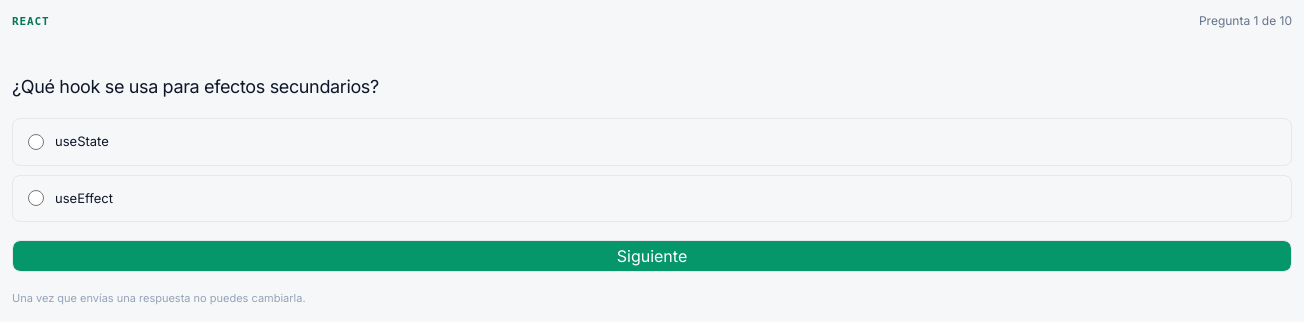
Test: SkillExamRunner › sends the selected option and advances to the next question
Click the radio button labelled "useEffect" at (36, 198), box [28,190,44,206]
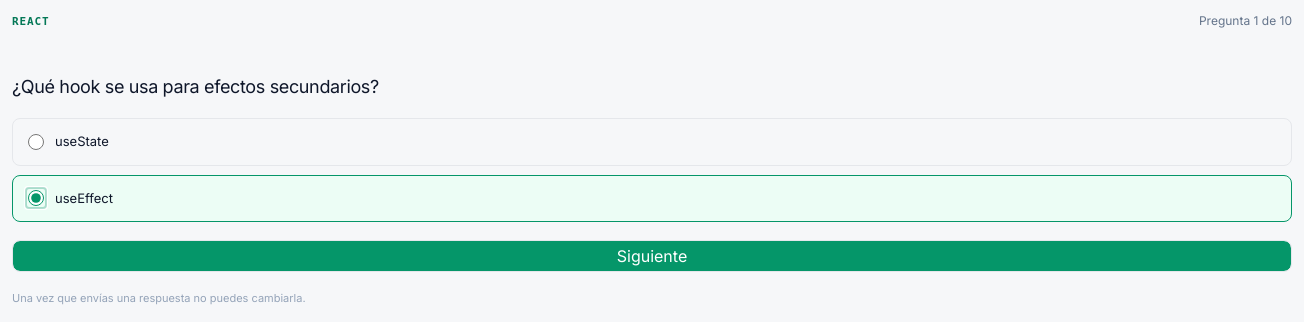
Click the button "Siguiente" at (652, 256), box [12,240,1292,272]
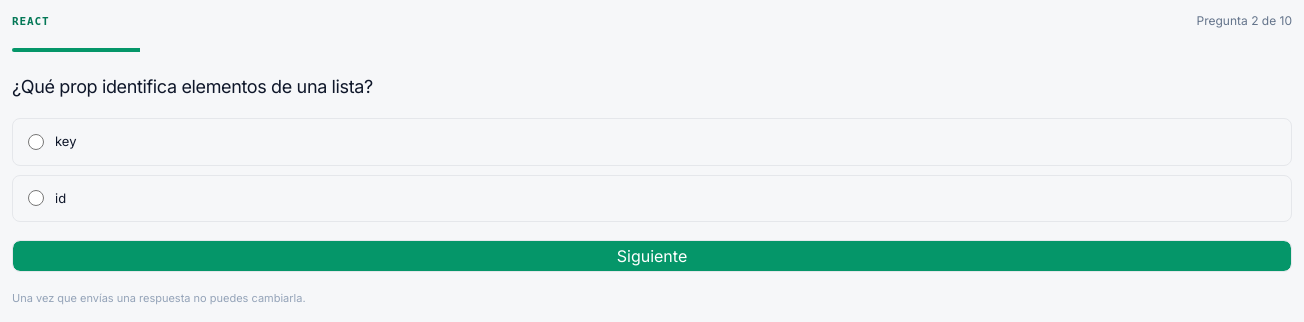
Expected: the heading "¿Qué prop identifica elementos de una lista?" is shown, [12,76,373,97]
Expected: the text "Pregunta 2 de 10" is shown, [1196,12,1292,30]
